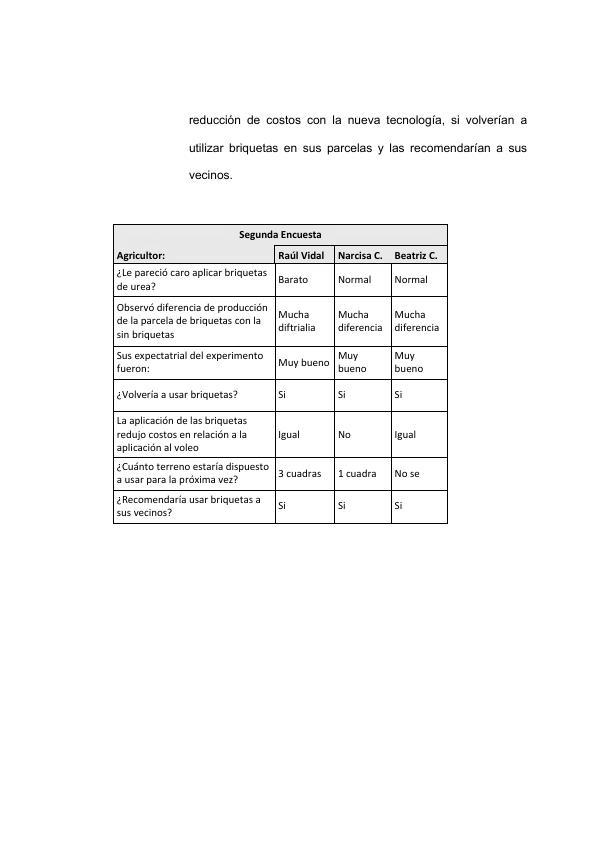table: (106, 219, 457, 528)
text: (185, 107, 529, 184)
